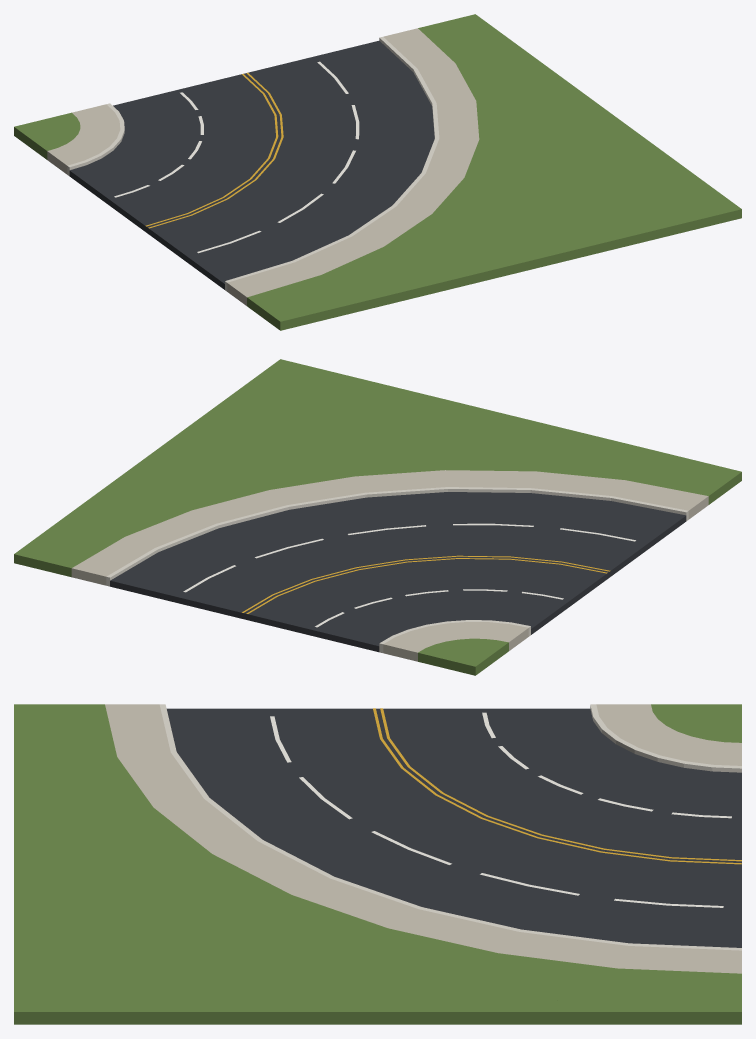
The model's file is Road_4Lane_Sidewalk_Curve90_R.glb.
3 renders of one model, top to bottom at view 1: azimuth 30°, elevation 25°; view 2: azimuth 150°, elevation 25°; view 3: azimuth 270°, elevation 25°, orthographic. The views are drawn at different scales.
Parts seen in each view (by area): view 1: Road_4Lane_Sidewalk_Curve90_R_Grass-edge, Road_4Lane_Sidewalk_Curve90_R_Asphalt, Road_4Lane_Sidewalk_Curve90_R_Sidewalk, Road_4Lane_Sidewalk_Curve90_R_Curb, Road_4Lane_Sidewalk_Curve90_R_PaintWhite, Road_4Lane_Sidewalk_Curve90_R_PaintYellow; view 2: Road_4Lane_Sidewalk_Curve90_R_Asphalt, Road_4Lane_Sidewalk_Curve90_R_Grass-edge, Road_4Lane_Sidewalk_Curve90_R_Sidewalk, Road_4Lane_Sidewalk_Curve90_R_Curb, Road_4Lane_Sidewalk_Curve90_R_PaintWhite, Road_4Lane_Sidewalk_Curve90_R_PaintYellow; view 3: Road_4Lane_Sidewalk_Curve90_R_Grass-edge, Road_4Lane_Sidewalk_Curve90_R_Asphalt, Road_4Lane_Sidewalk_Curve90_R_Sidewalk, Road_4Lane_Sidewalk_Curve90_R_Curb, Road_4Lane_Sidewalk_Curve90_R_PaintWhite, Road_4Lane_Sidewalk_Curve90_R_PaintYellow.
Part boxes in pixels (<box>): Road_4Lane_Sidewalk_Curve90_R_Grass-edge: <box>14,14,741,330</box>; Road_4Lane_Sidewalk_Curve90_R_Asphalt: <box>69,40,434,289</box>; Road_4Lane_Sidewalk_Curve90_R_Sidewalk: <box>47,28,479,305</box>; Road_4Lane_Sidewalk_Curve90_R_Curb: <box>67,37,439,291</box>; Road_4Lane_Sidewalk_Curve90_R_PaintWhite: <box>114,61,359,253</box>; Road_4Lane_Sidewalk_Curve90_R_PaintYellow: <box>145,72,283,228</box>; Road_4Lane_Sidewalk_Curve90_R_Asphalt: <box>110,492,686,652</box>; Road_4Lane_Sidewalk_Curve90_R_Grass-edge: <box>14,359,741,675</box>; Road_4Lane_Sidewalk_Curve90_R_Sidewalk: <box>71,470,708,661</box>; Road_4Lane_Sidewalk_Curve90_R_Curb: <box>106,487,688,652</box>; Road_4Lane_Sidewalk_Curve90_R_PaintWhite: <box>183,523,635,627</box>; Road_4Lane_Sidewalk_Curve90_R_PaintYellow: <box>242,555,610,613</box>; Road_4Lane_Sidewalk_Curve90_R_Grass-edge: <box>14,704,741,1024</box>; Road_4Lane_Sidewalk_Curve90_R_Asphalt: <box>167,708,741,947</box>; Road_4Lane_Sidewalk_Curve90_R_Sidewalk: <box>105,704,741,973</box>; Road_4Lane_Sidewalk_Curve90_R_Curb: <box>159,704,741,950</box>; Road_4Lane_Sidewalk_Curve90_R_PaintWhite: <box>270,712,731,907</box>; Road_4Lane_Sidewalk_Curve90_R_PaintYellow: <box>373,708,741,864</box>.
Bounding box in the file's own units: 24 × 0.45 × 24.
